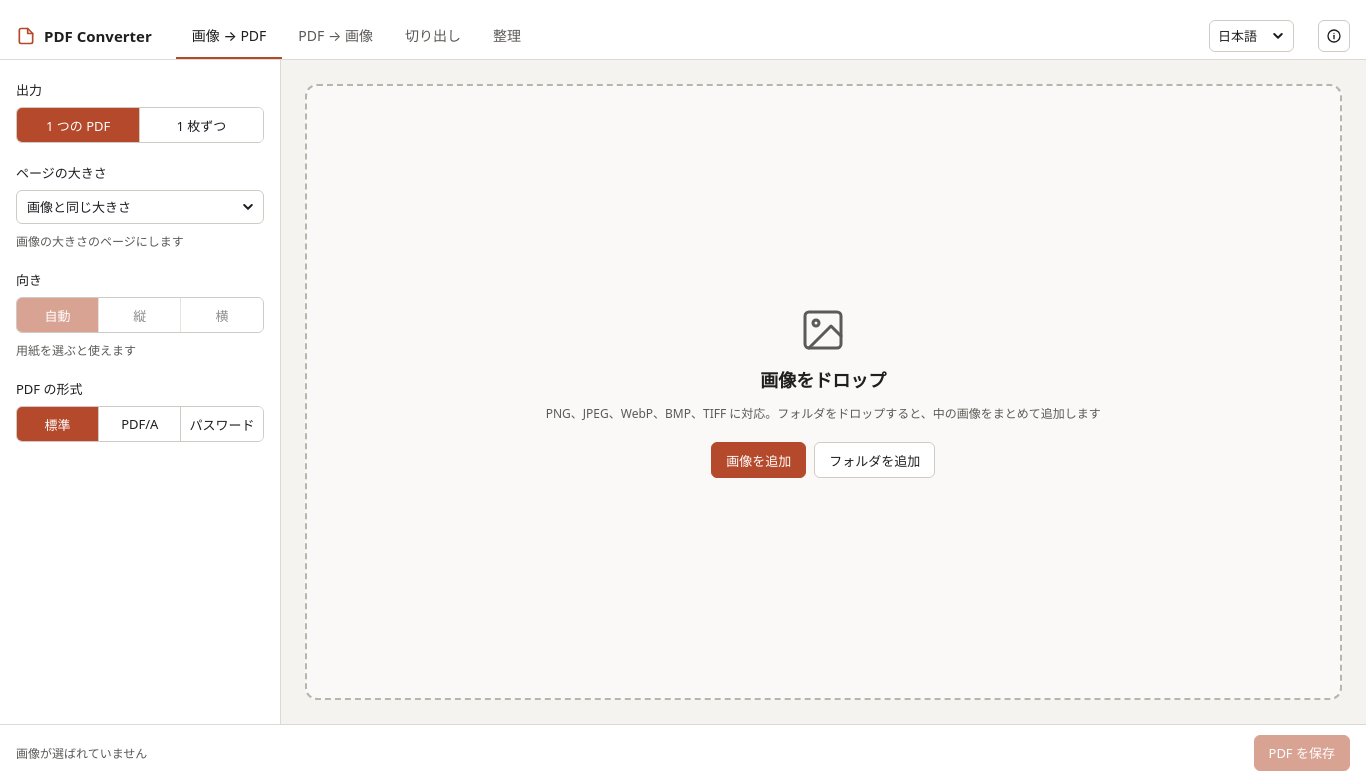
Test: the settings of the organize tab › start from what get_settings gave
The width and height of the screenshot is (1366, 780).
Click the tab "整理" at (507, 36), box [477,12,537,59]
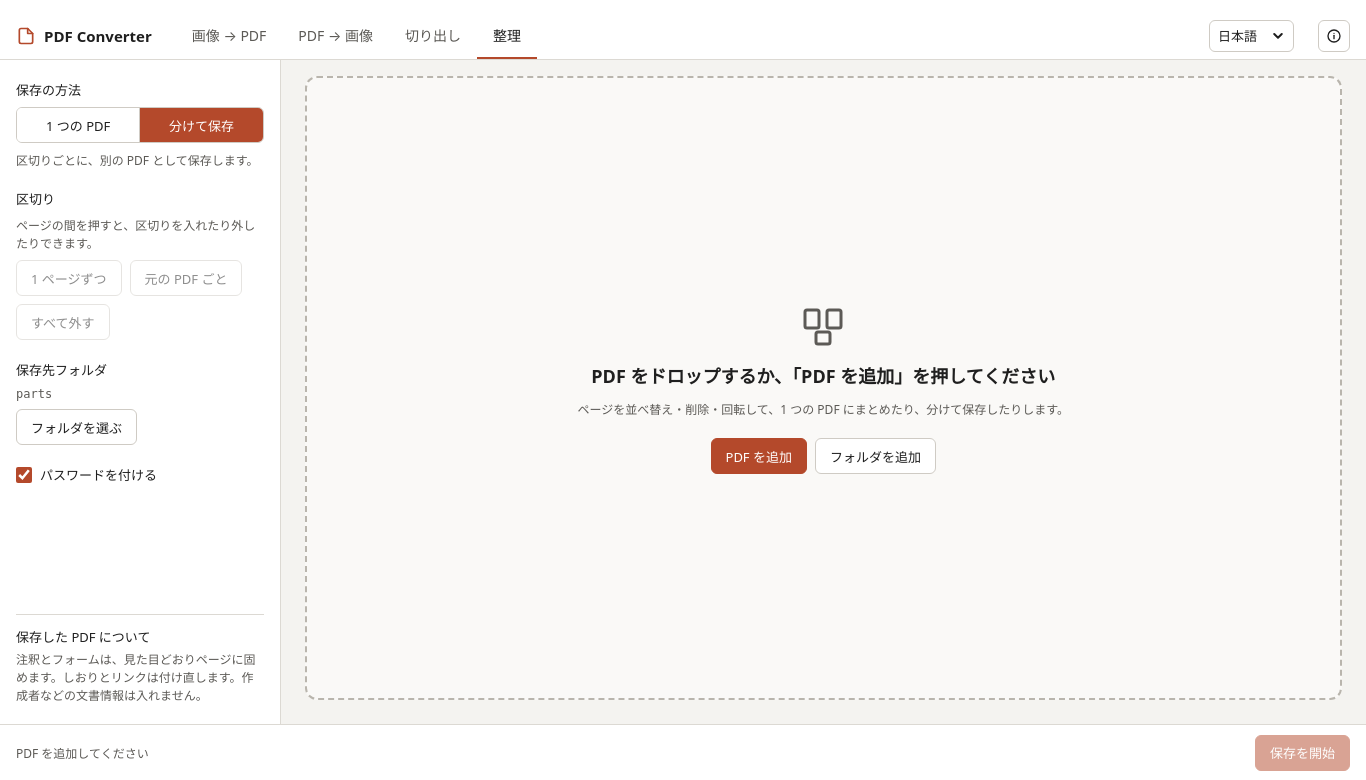
Result: the checkbox labelled "パスワードを付ける" is checked at [16,467,32,483]
